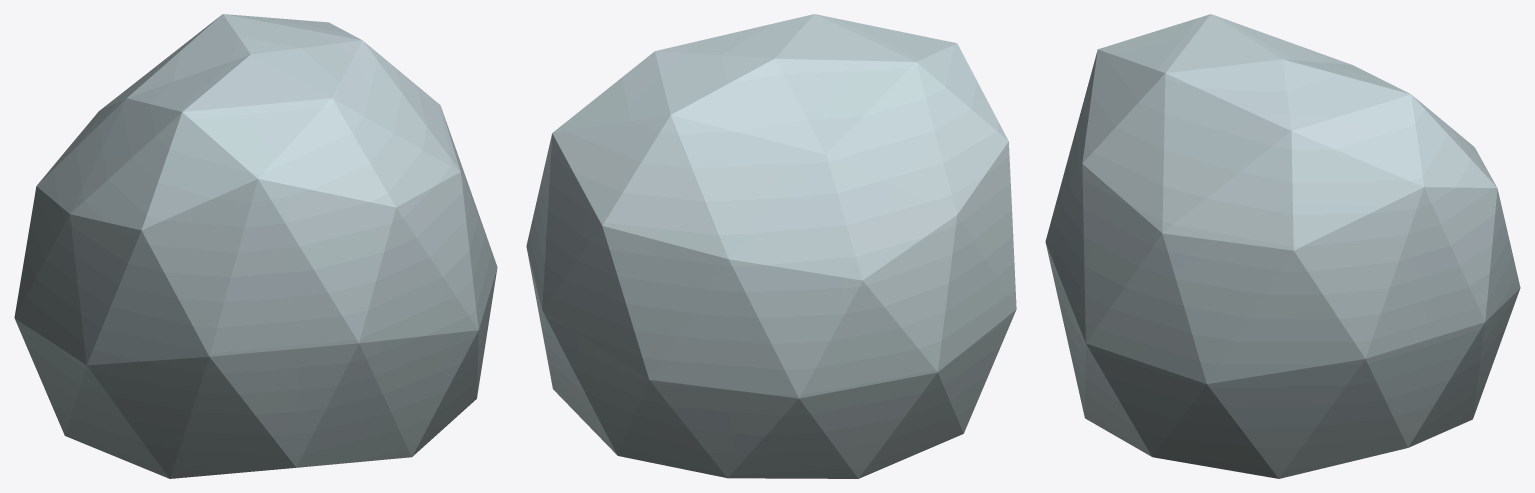
3 renders of one model, left to right at view 1: azimuth 30°, elevation 25°; view 2: azimuth 150°, elevation 25°; view 3: azimuth 270°, elevation 25°, orthographic. The views are drawn at different scales.
Parts seen in each view (by area): view 1: Bush_02; view 2: Bush_02; view 3: Bush_02.
Part boxes in pixels (left/top/right/bottom): Bush_02: left=14, top=14, right=497, bottom=478; Bush_02: left=526, top=14, right=1016, bottom=478; Bush_02: left=1045, top=14, right=1520, bottom=478.
Size of the model in its own units: 58.86 by 49.47 by 60.84.
